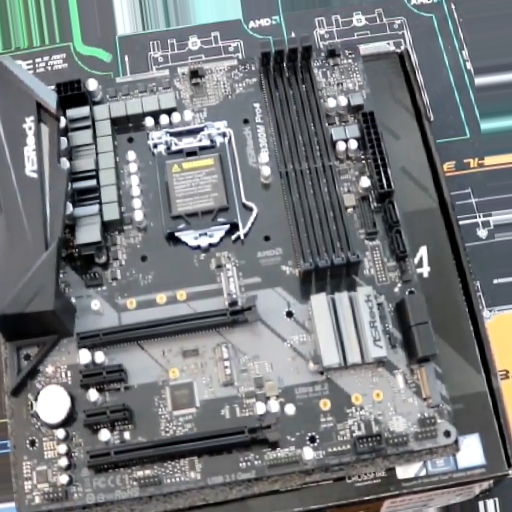CPU: (148, 119, 244, 250)
GPU: (86, 410, 281, 470), (76, 294, 260, 350)
MOTHERBOARD: (10, 43, 456, 511)
RAM: (258, 45, 363, 280)
SSD: (215, 344, 239, 386), (218, 260, 241, 300)
